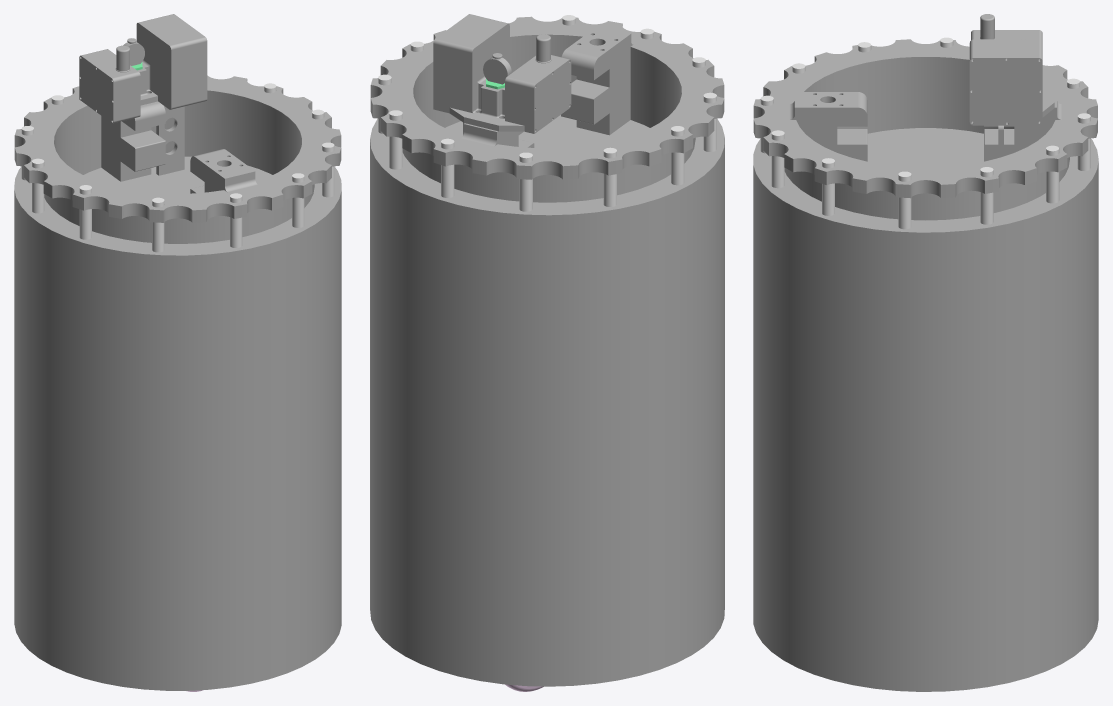
The model's file is main_shield_cover.glb.
3 views of the same model, side by side, from view 1: azimuth 30°, elevation 25°; view 2: azimuth 150°, elevation 25°; view 3: azimuth 270°, elevation 25° (orthographic). The views are drawn at different scales.
Visible parts, largest first — view 1: 刀筒-1, 复刻模型--刀筒盖-1, 盒子-2, 螺栓-1, 板子盖子-1; view 2: 刀筒-1, 复刻模型--刀筒盖-1, 盒子-2, 螺栓-1, 板子盖子-1, 气压计-1; view 3: 刀筒-1, 复刻模型--刀筒盖-1, 电池盖子-1, 螺栓-1, 盒子-2.
Boxes of the visible parts, bbox=[...] form: 刀筒-1: bbox=[14, 166, 341, 690]; 复刻模型--刀筒盖-1: bbox=[14, 75, 341, 243]; 盒子-2: bbox=[83, 14, 205, 122]; 螺栓-1: bbox=[21, 83, 334, 252]; 板子盖子-1: bbox=[79, 55, 115, 123]; 刀筒-1: bbox=[370, 118, 724, 686]; 复刻模型--刀筒盖-1: bbox=[370, 16, 724, 202]; 盒子-2: bbox=[435, 14, 566, 133]; 螺栓-1: bbox=[378, 15, 716, 211]; 板子盖子-1: bbox=[532, 59, 571, 133]; 气压计-1: bbox=[483, 53, 511, 84]; 刀筒-1: bbox=[753, 139, 1098, 691]; 复刻模型--刀筒盖-1: bbox=[753, 39, 1097, 220]; 电池盖子-1: bbox=[969, 57, 1042, 125]; 螺栓-1: bbox=[760, 37, 1090, 229]; 盒子-2: bbox=[969, 31, 1054, 123].
Bounding box in the file's own units: 0.6597 × 1.38 × 0.6592.
6 materials, 1 textured.
